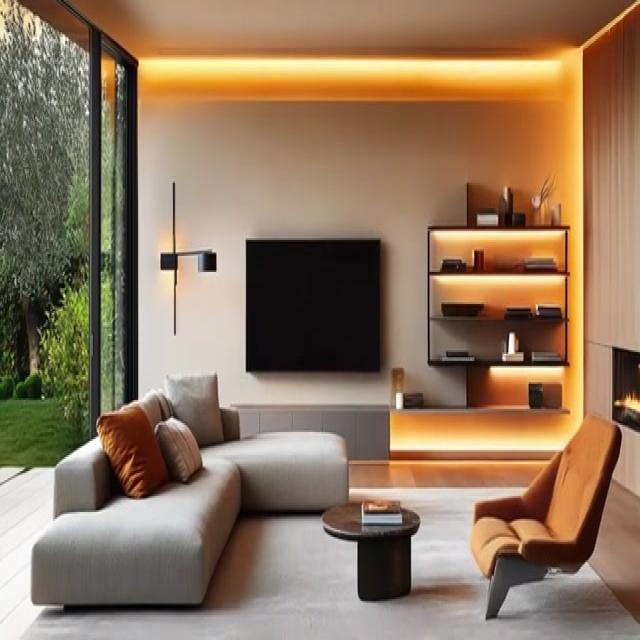obstacle: (30, 372, 349, 612), (469, 411, 622, 618), (321, 499, 420, 601)
